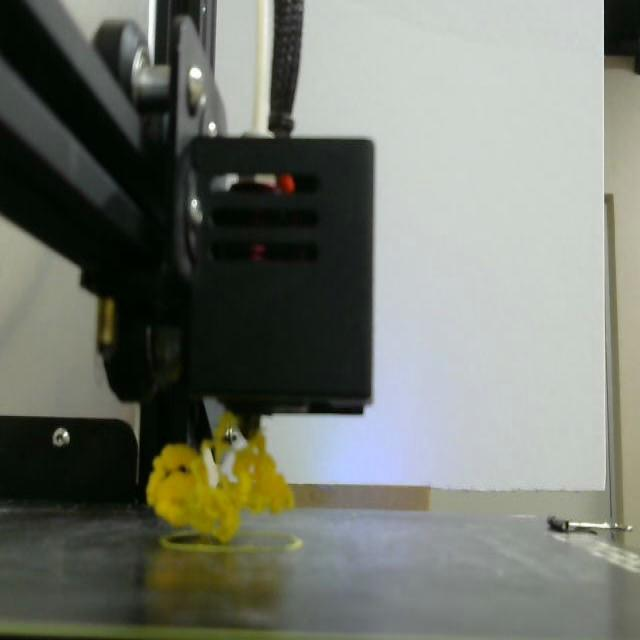spaghetti: (147, 417, 303, 557)
